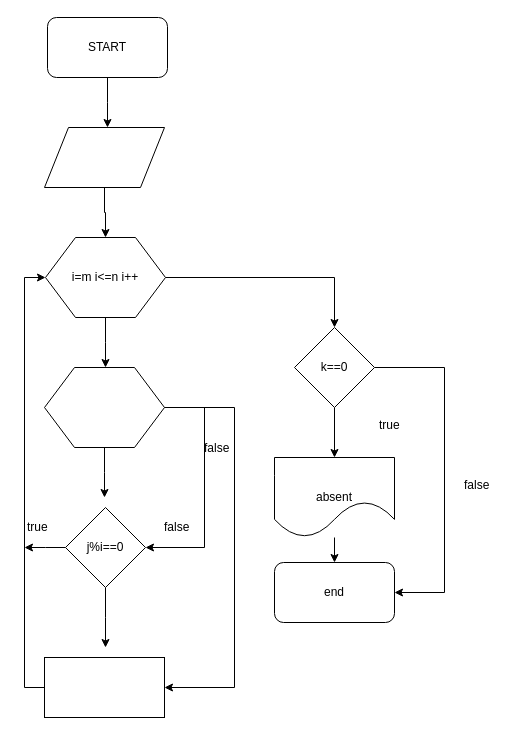
Some shapes in this 520 by 735 pixel diagram are drawn without their labels. The shapes that lost their labels are listed below. From the top down, each one's centre as x and y in pixels, then its label:
At point (104, 157): "m ; n".
At point (104, 407): "j=2 j<i j++".
At point (104, 687): "print".
